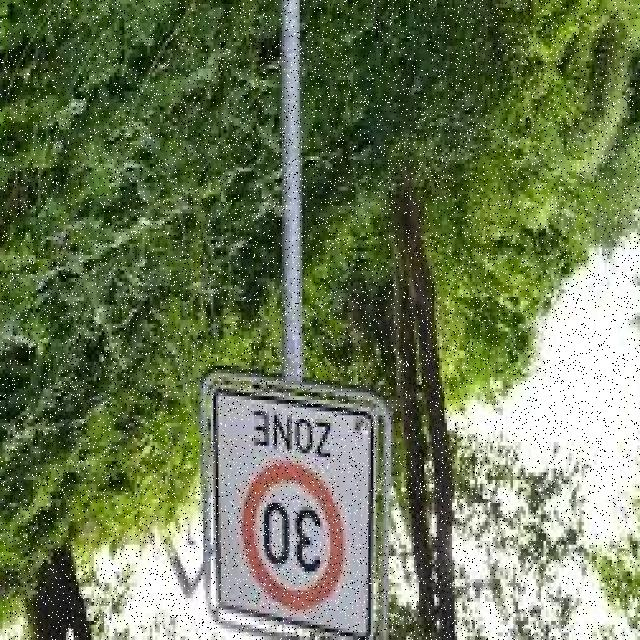speed_limit_30: (235, 458, 346, 615)
